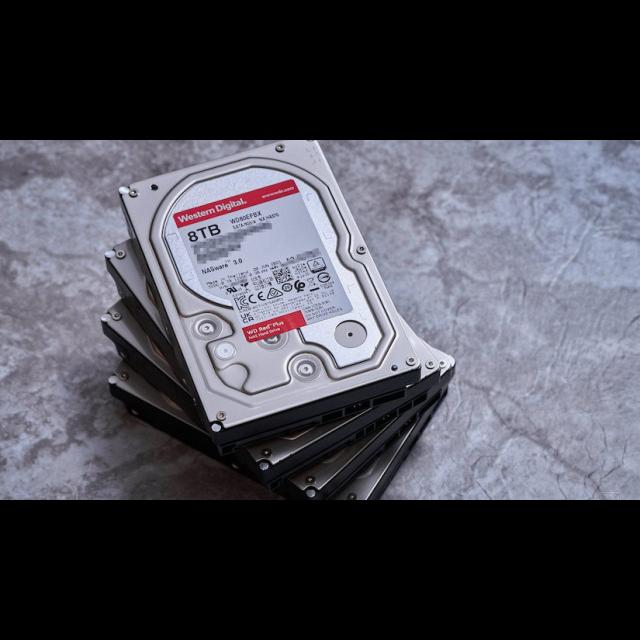HDD: (120, 140, 424, 447)
